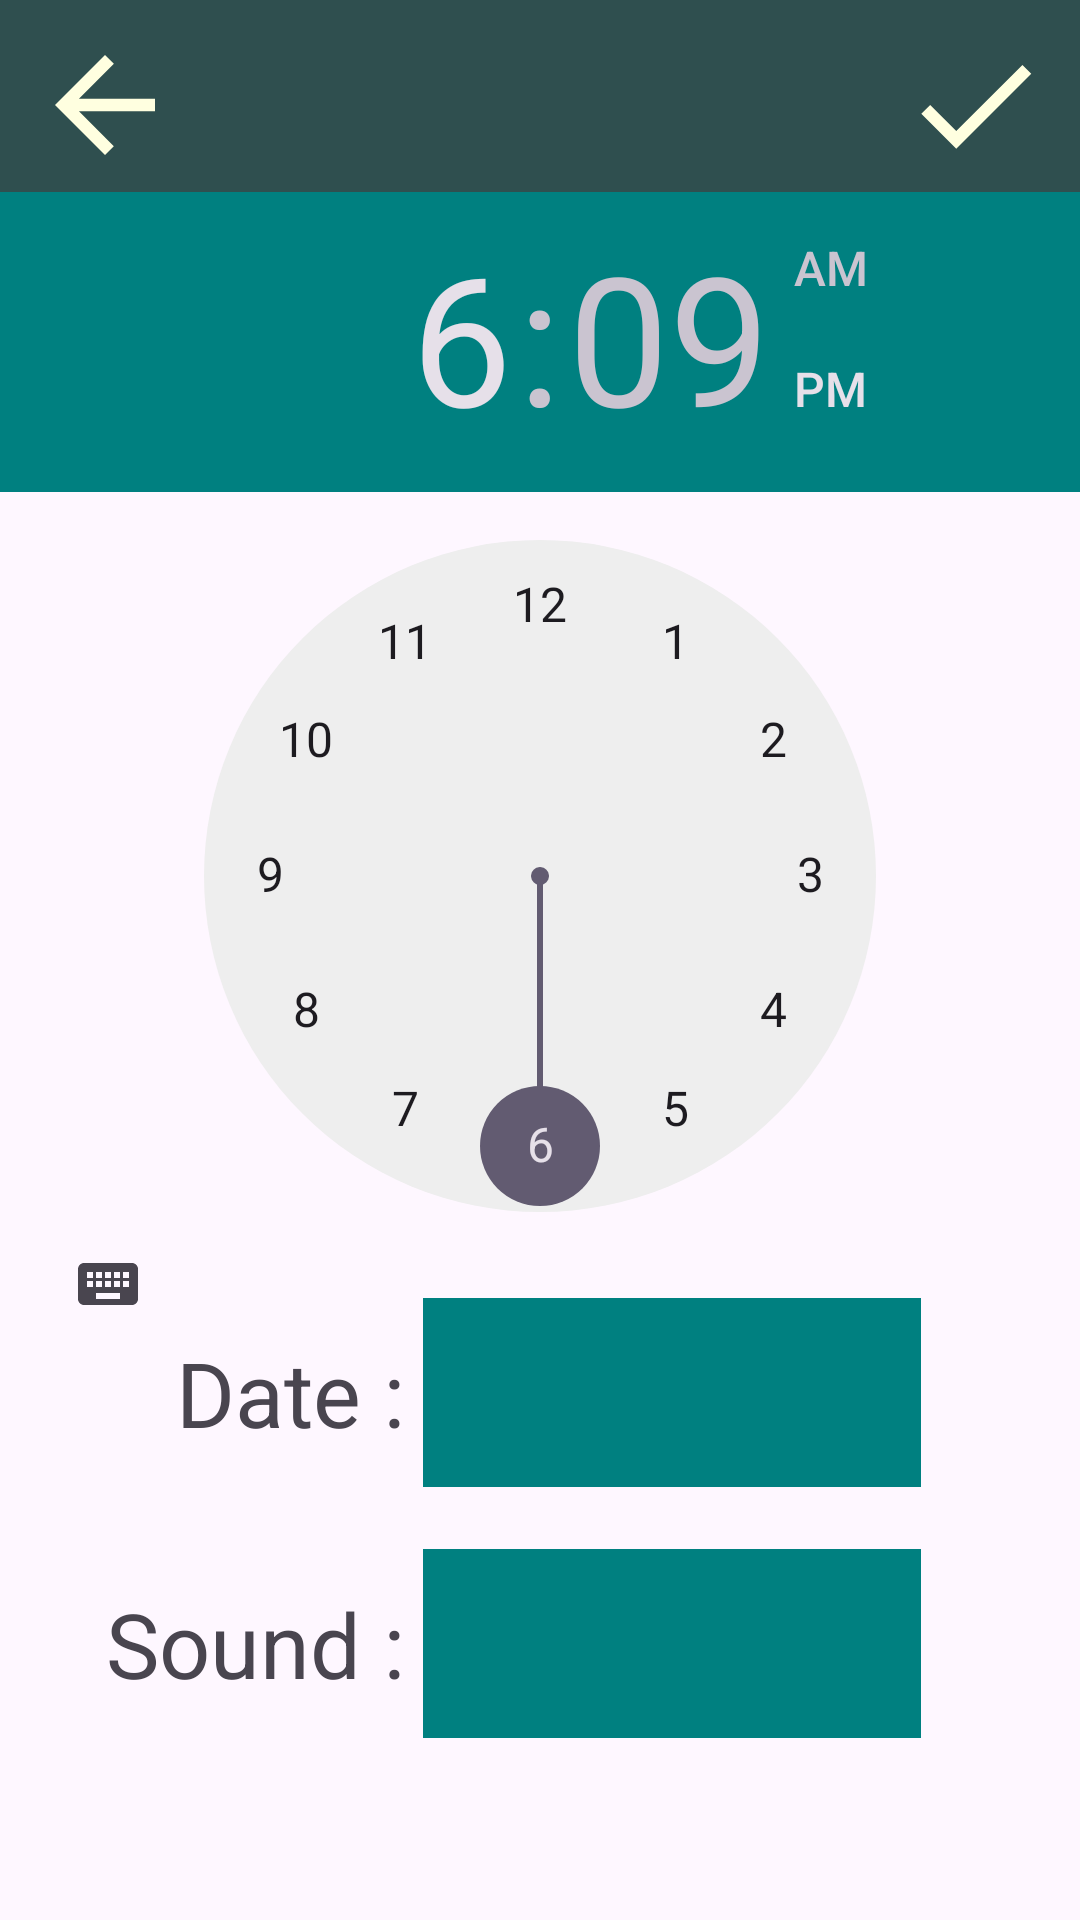

Screen size 1080 × 1920. Icon name, then its center in pixels as point (x, y):
arrow back: point (105, 105)
check: point (976, 107)
